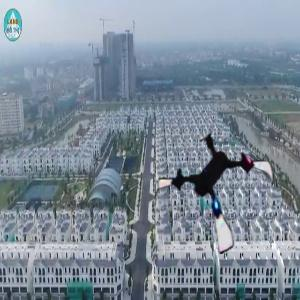drone: (153, 127, 282, 256)
